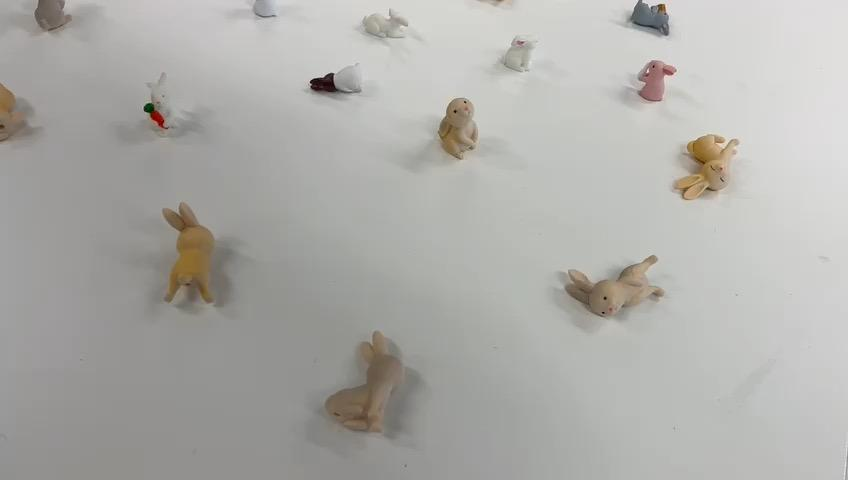pet: (138, 180, 229, 323), (318, 313, 419, 439), (536, 258, 706, 327), (651, 115, 756, 215), (306, 43, 384, 117), (428, 88, 488, 174), (141, 60, 193, 149), (356, 0, 428, 61), (0, 70, 43, 162), (498, 25, 544, 84), (626, 53, 676, 106), (26, 0, 76, 47), (621, 0, 675, 43)
